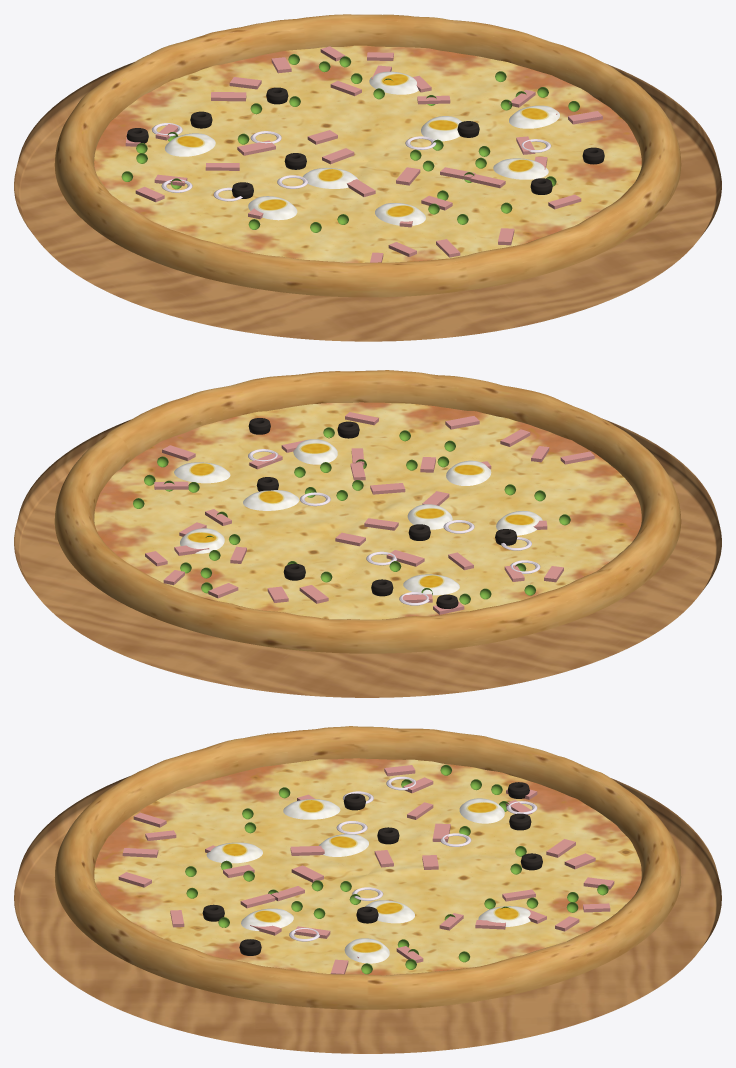
File: pizza-portuguesa.glb
3 renders of one model, top to bottom at view 1: azimuth 30°, elevation 25°; view 2: azimuth 150°, elevation 25°; view 3: azimuth 270°, elevation 25°, orthographic.
Parts seen in each view (by area): view 1: pizza-portuguesa; view 2: pizza-portuguesa; view 3: pizza-portuguesa.
Part boxes in pixels (x1,y1,x2,y2): pizza-portuguesa: [14, 14, 721, 341]; pizza-portuguesa: [14, 370, 721, 697]; pizza-portuguesa: [14, 726, 721, 1053].
Bounding box in the file's own units: 0.432 × 0.0398 × 0.432.
Materials: 8 (4 with a texture image).
